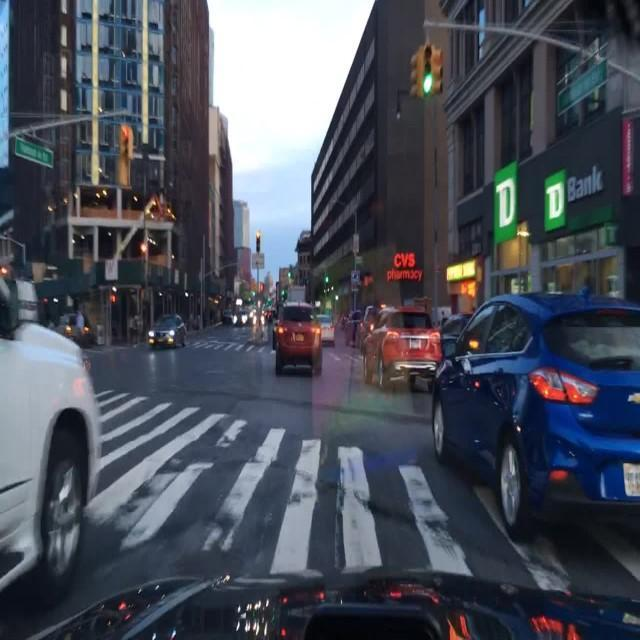normal: (427, 263, 640, 552), (0, 213, 106, 633), (262, 293, 337, 389), (136, 299, 193, 357)
